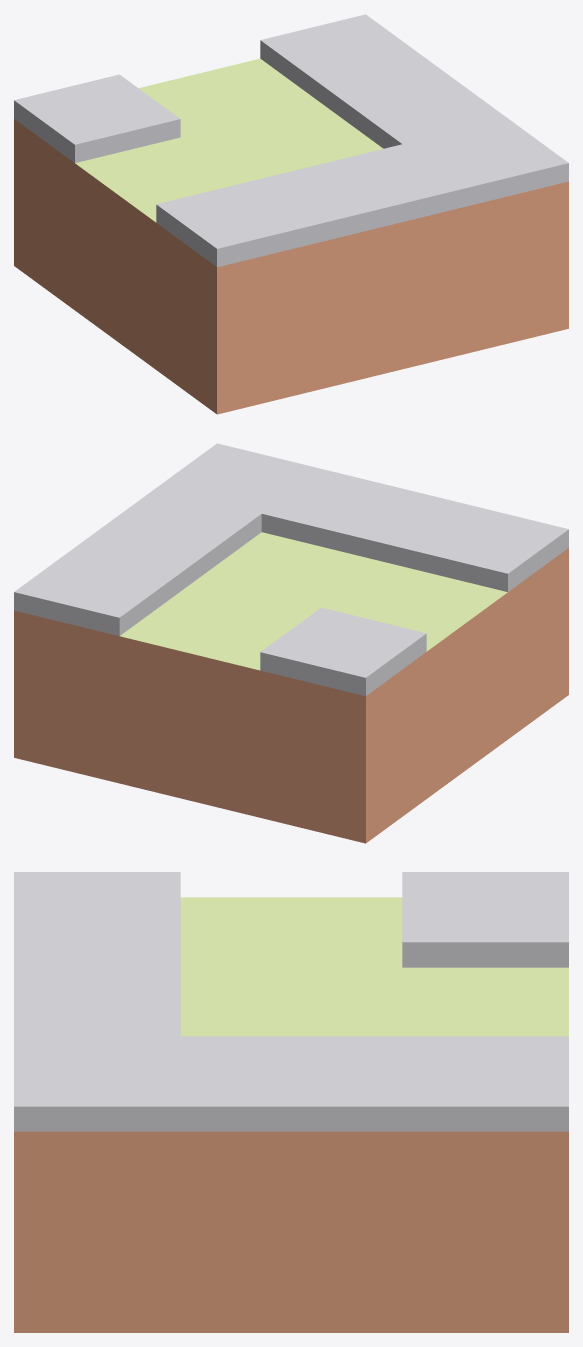
File: New SideWalk.fbx
3 views of the same model, one above another, from view 1: azimuth 30°, elevation 25°; view 2: azimuth 150°, elevation 25°; view 3: azimuth 270°, elevation 25° (orthographic). The views are drawn at different scales.
Visible parts, largest first — view 1: SideWalk V1, SideWalk V2, SideWalk V3; view 2: SideWalk V1, SideWalk V3, SideWalk V2; view 3: SideWalk V1, SideWalk V2, SideWalk V3.
Part boxes in pixels (box(x1,y1,x2,y2)): SideWalk V1: box(14, 14, 568, 413); SideWalk V2: box(14, 74, 568, 414); SideWalk V3: box(14, 14, 566, 413); SideWalk V1: box(14, 443, 568, 843); SideWalk V3: box(15, 444, 568, 695); SideWalk V2: box(14, 532, 505, 842); SideWalk V1: box(14, 897, 568, 1332); SideWalk V2: box(14, 872, 568, 1332); SideWalk V3: box(14, 872, 568, 1331).
Bounding box in the file's own units: 1000 × 450 × 1000.
